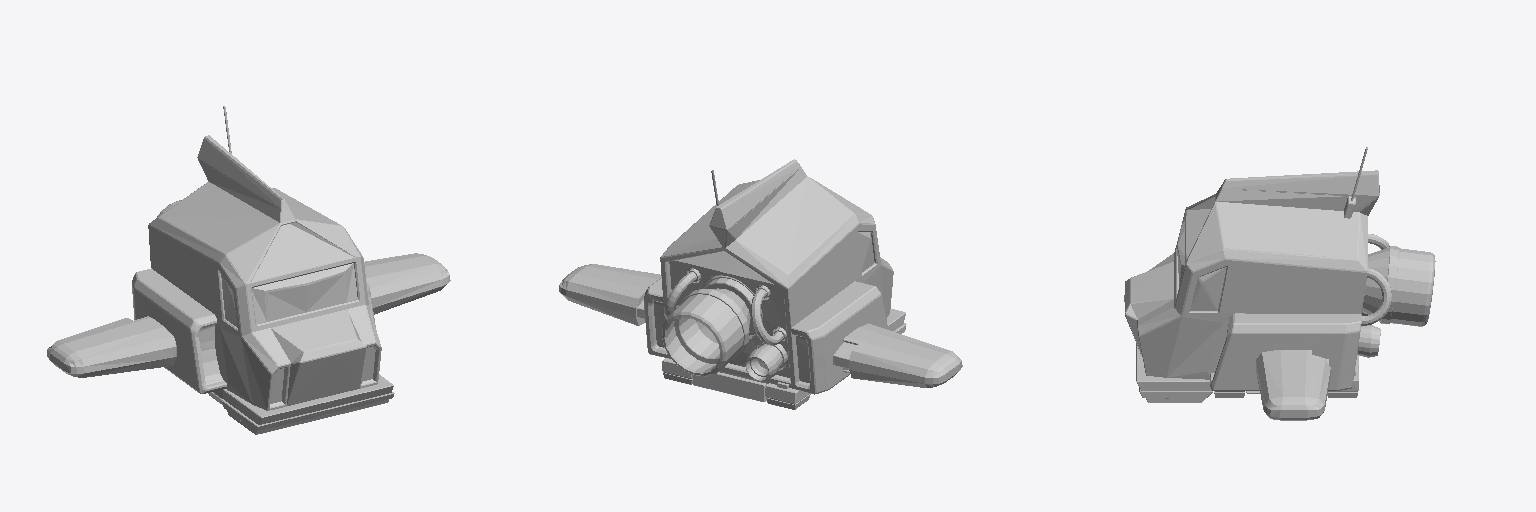
Rendered from enemy.obj.
The picture shows the model from 3 angles: view 1: azimuth 30°, elevation 25°; view 2: azimuth 150°, elevation 25°; view 3: azimuth 270°, elevation 25°; orthographic projection.
Visible parts, largest first — view 1: defaultMaterial; view 2: defaultMaterial; view 3: defaultMaterial.
Part boxes in pixels (bbox=[...]): defaultMaterial: bbox=[47, 106, 450, 434]; defaultMaterial: bbox=[559, 159, 962, 409]; defaultMaterial: bbox=[1124, 147, 1435, 420].
Bounding box in the file's own units: 32.27 × 18.51 × 22.66.